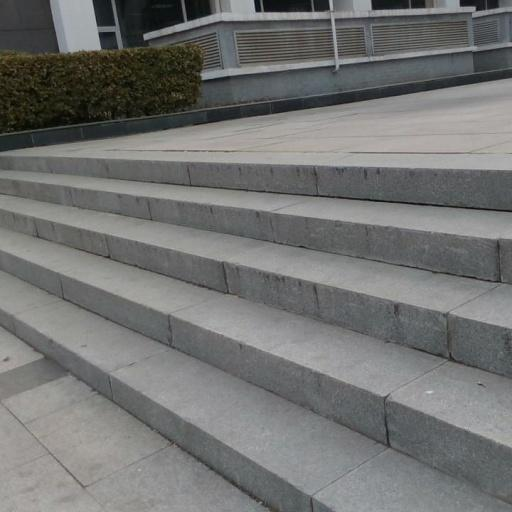stairs: (0, 156, 511, 511)
